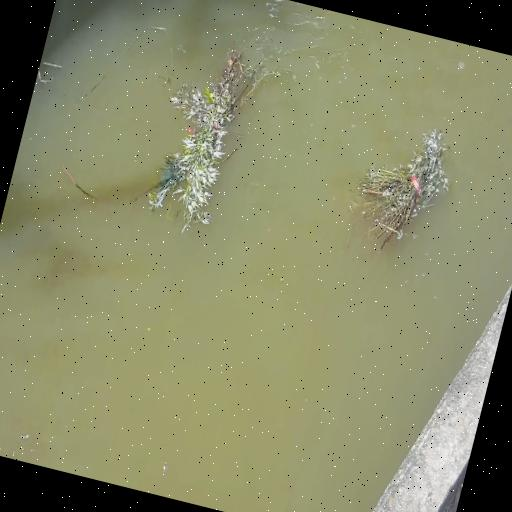twig: (140, 28, 274, 242), (339, 112, 461, 268)
